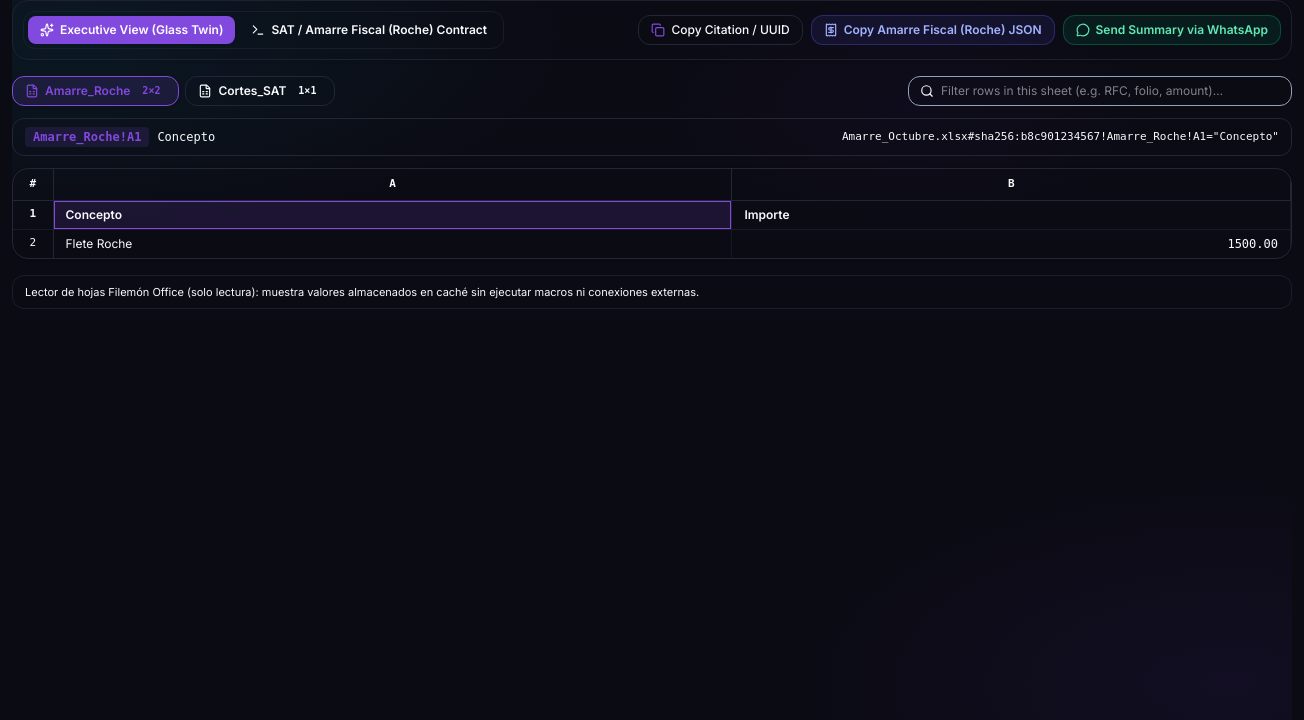
Test case: FilemonOfficeStage › renders multi-sheet XLSX workbench, switches sheets, and inspects cell formulas
The image size is (1304, 720).
Expected: the element with test id "filemon-office-spreadsheet-workbench" is shown, x1=12 y1=76 x2=1292 y2=259
Expected: the text "Flete Roche" is shown, x1=53 y1=229 x2=732 y2=258
Click the text "1500.00".
click(1011, 243)  # box x1=732 y1=229 x2=1290 y2=258
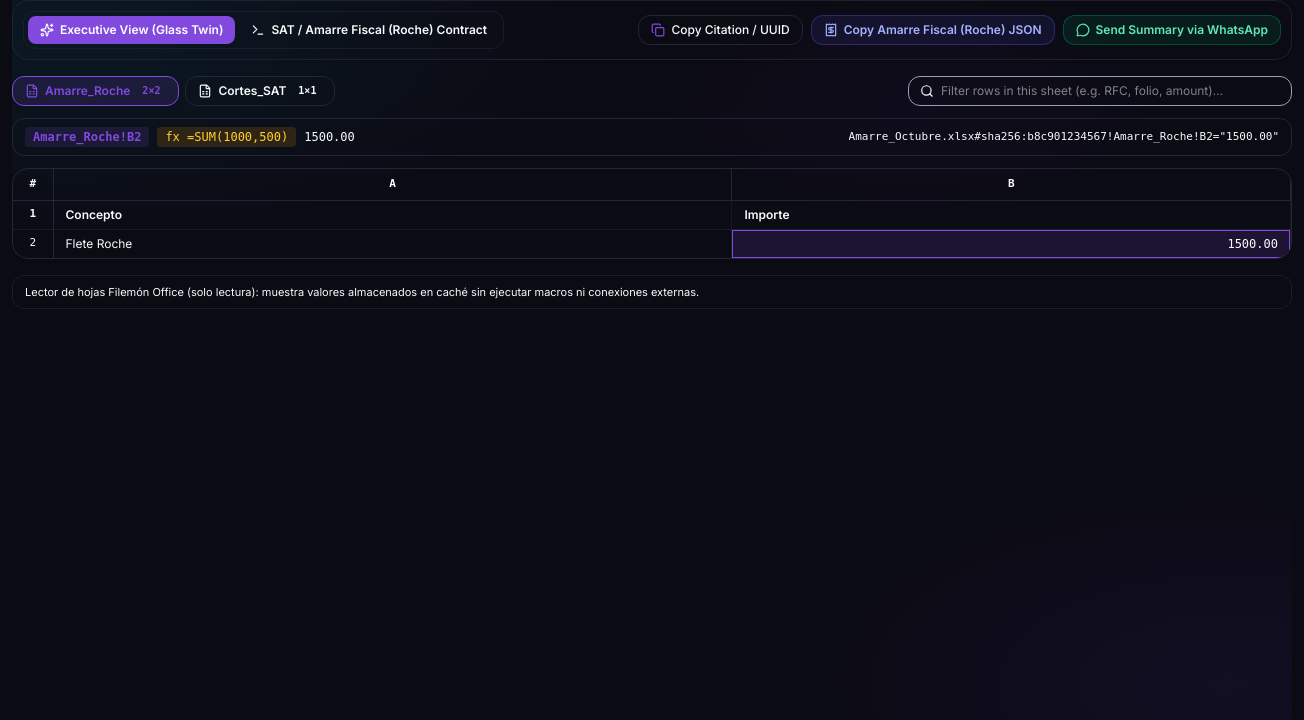
Now the text "Amarre_Roche!B2" is shown, box x1=25 y1=127 x2=149 y2=147
Now the text "fx =SUM(1000,500)" is shown, box x1=157 y1=127 x2=296 y2=147
Click the tab "Cortes_SAT 1×1".
click(260, 91)  # box x1=186 y1=76 x2=336 y2=106
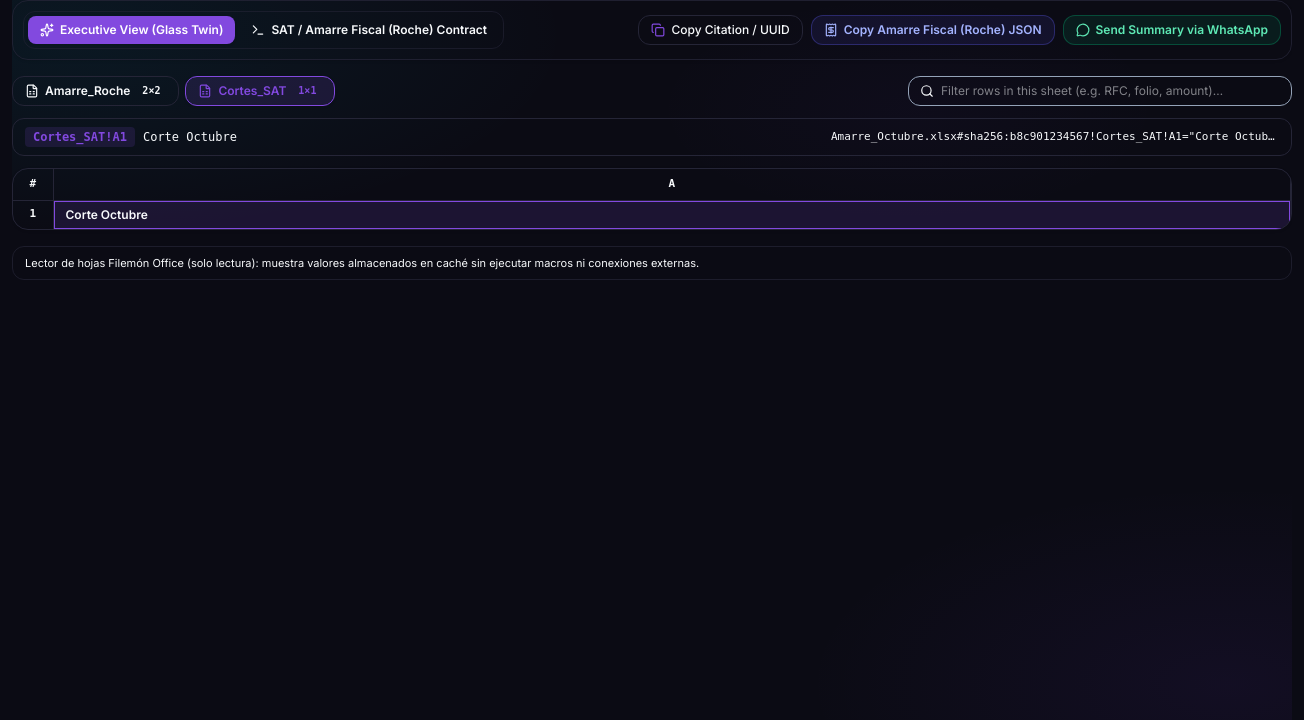
Now the text "Cortes_SAT!A1" is shown, box x1=25 y1=127 x2=135 y2=147
